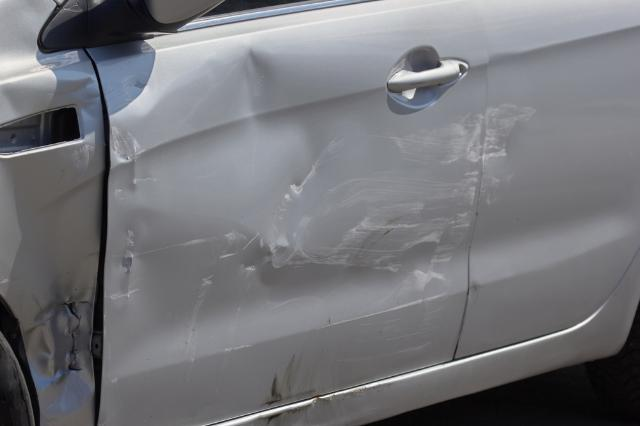dent: (106, 51, 412, 366), (0, 155, 97, 416)
scratch: (356, 106, 487, 366), (482, 101, 541, 207), (260, 386, 370, 426), (263, 346, 323, 406)
